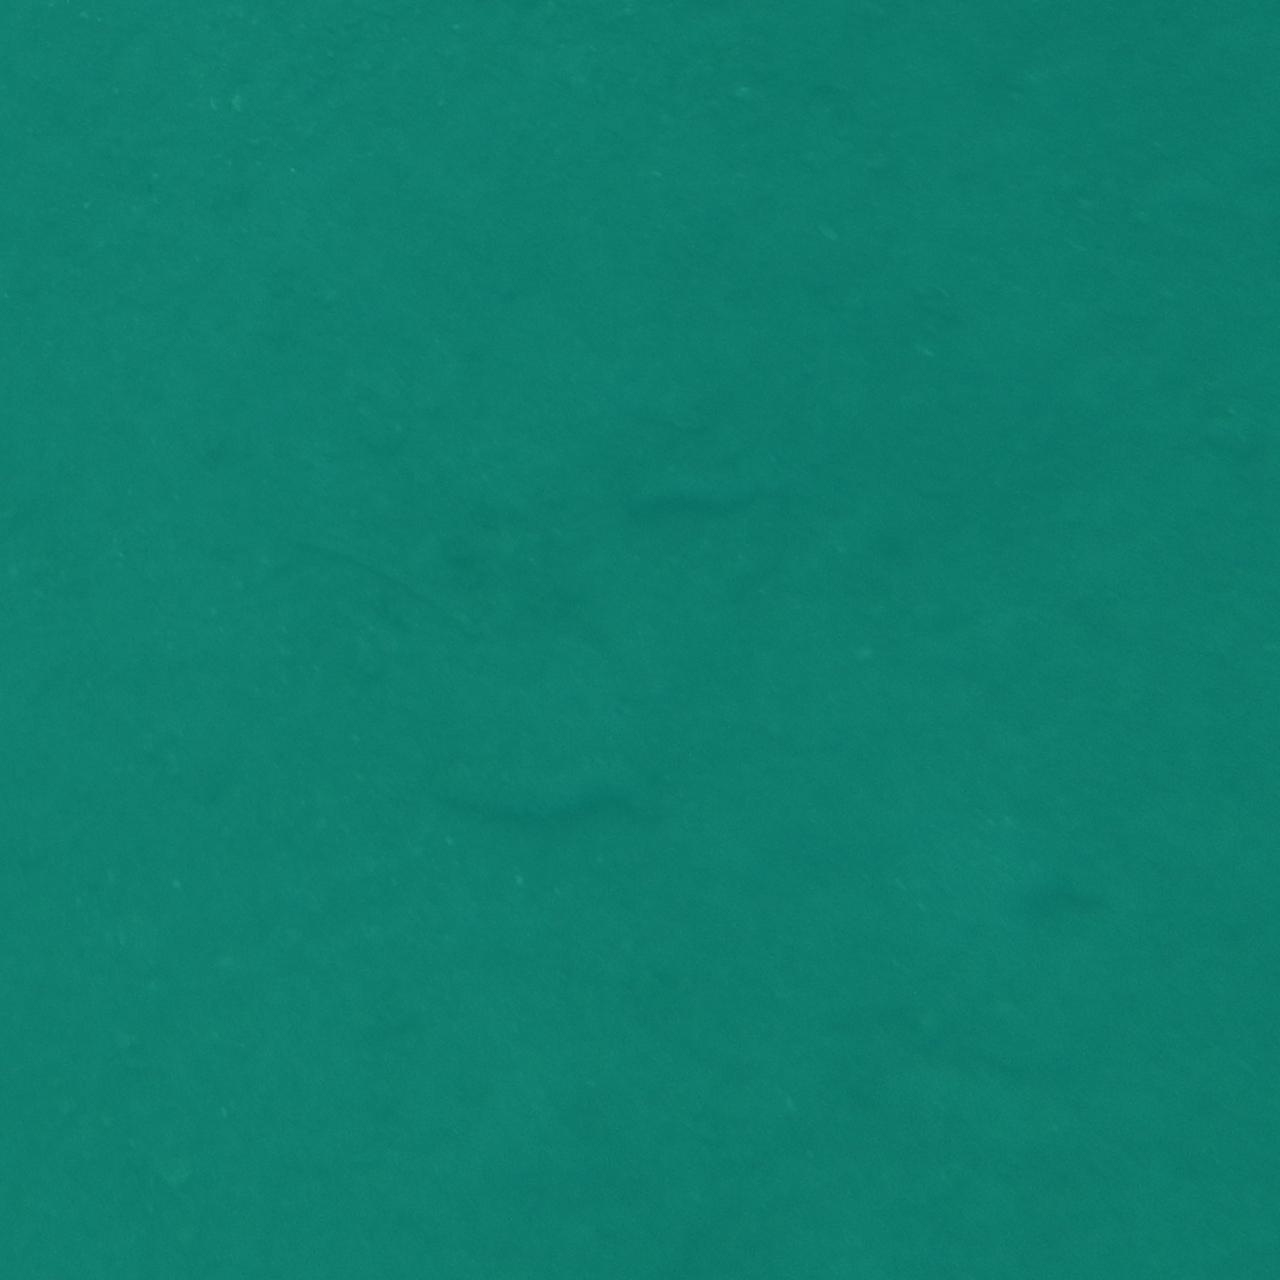Holothuria tubulosa: (433, 744, 688, 842), (636, 449, 806, 527)
